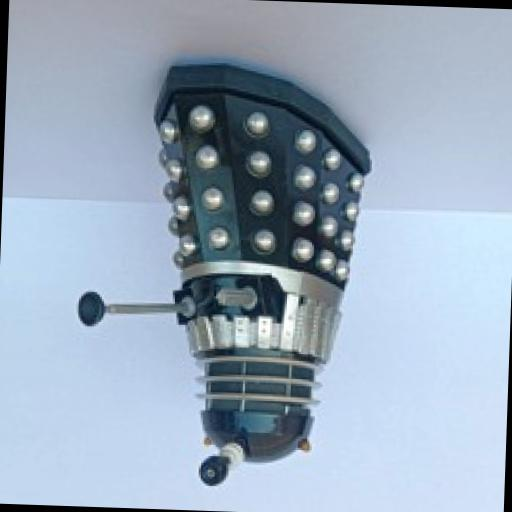dalek: (66, 44, 380, 494)
